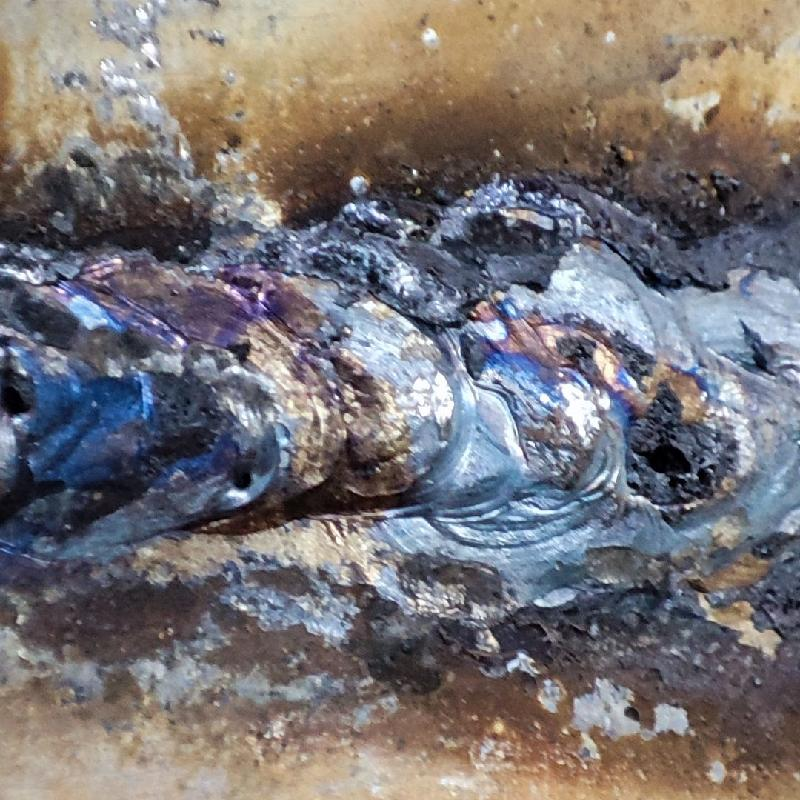Surface_pores: (622, 394, 714, 505), (197, 447, 280, 506)
good: (0, 224, 799, 573)
